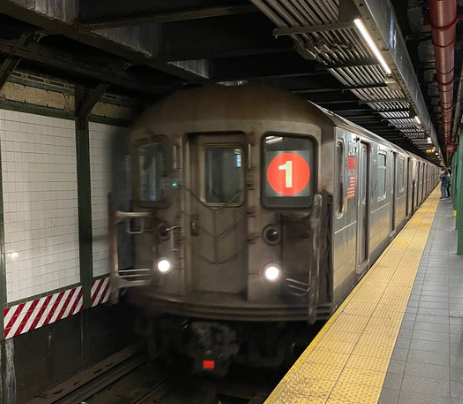train: (122, 82, 336, 317)
